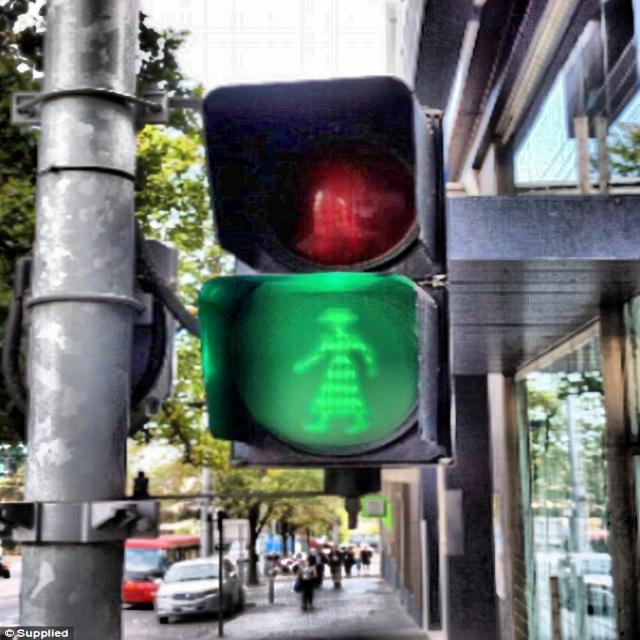green_light: (290, 304, 380, 436)
